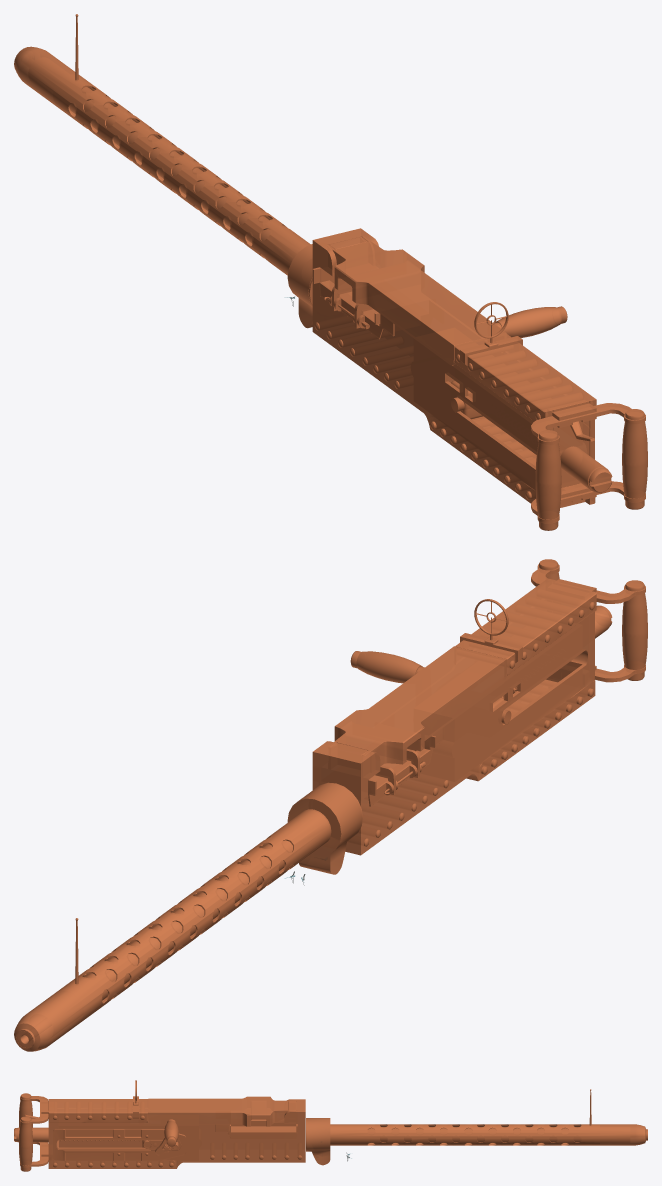
Rendered from distilled-reference.glb.
The picture shows the model from 3 angles, top to bottom: view 1: azimuth 30°, elevation 25°; view 2: azimuth 150°, elevation 25°; view 3: azimuth 270°, elevation 25°; orthographic projection. The views are drawn at different scales.
Visible parts, largest first — view 1: mechanism.donor_body.source_n018, mechanism.donor_barrel.source_n020, mechanism.cocking_handle.source_n016; view 2: mechanism.donor_body.source_n018, mechanism.donor_barrel.source_n020, mechanism.cocking_handle.source_n016; view 3: mechanism.donor_body.source_n018, mechanism.donor_barrel.source_n020, mechanism.cocking_handle.source_n016, mechanism.bolt.source_n014.
Part boxes in pixels (box(x1,y1,x2,y2)): mechanism.donor_body.source_n018: box(312, 228, 647, 530); mechanism.donor_barrel.source_n020: box(14, 14, 312, 328); mechanism.cocking_handle.source_n016: box(495, 306, 567, 337); mechanism.donor_body.source_n018: box(312, 559, 647, 855); mechanism.donor_barrel.source_n020: box(14, 782, 362, 1051); mechanism.cocking_handle.source_n016: box(350, 651, 424, 683); mechanism.donor_body.source_n018: box(14, 1080, 305, 1171); mechanism.donor_barrel.source_n020: box(306, 1089, 647, 1165); mechanism.cocking_handle.source_n016: box(155, 1119, 178, 1156); mechanism.bolt.source_n014: box(142, 1140, 181, 1150).
Bounding box in the file's own units: 23.13 × 20.51 × 145.
